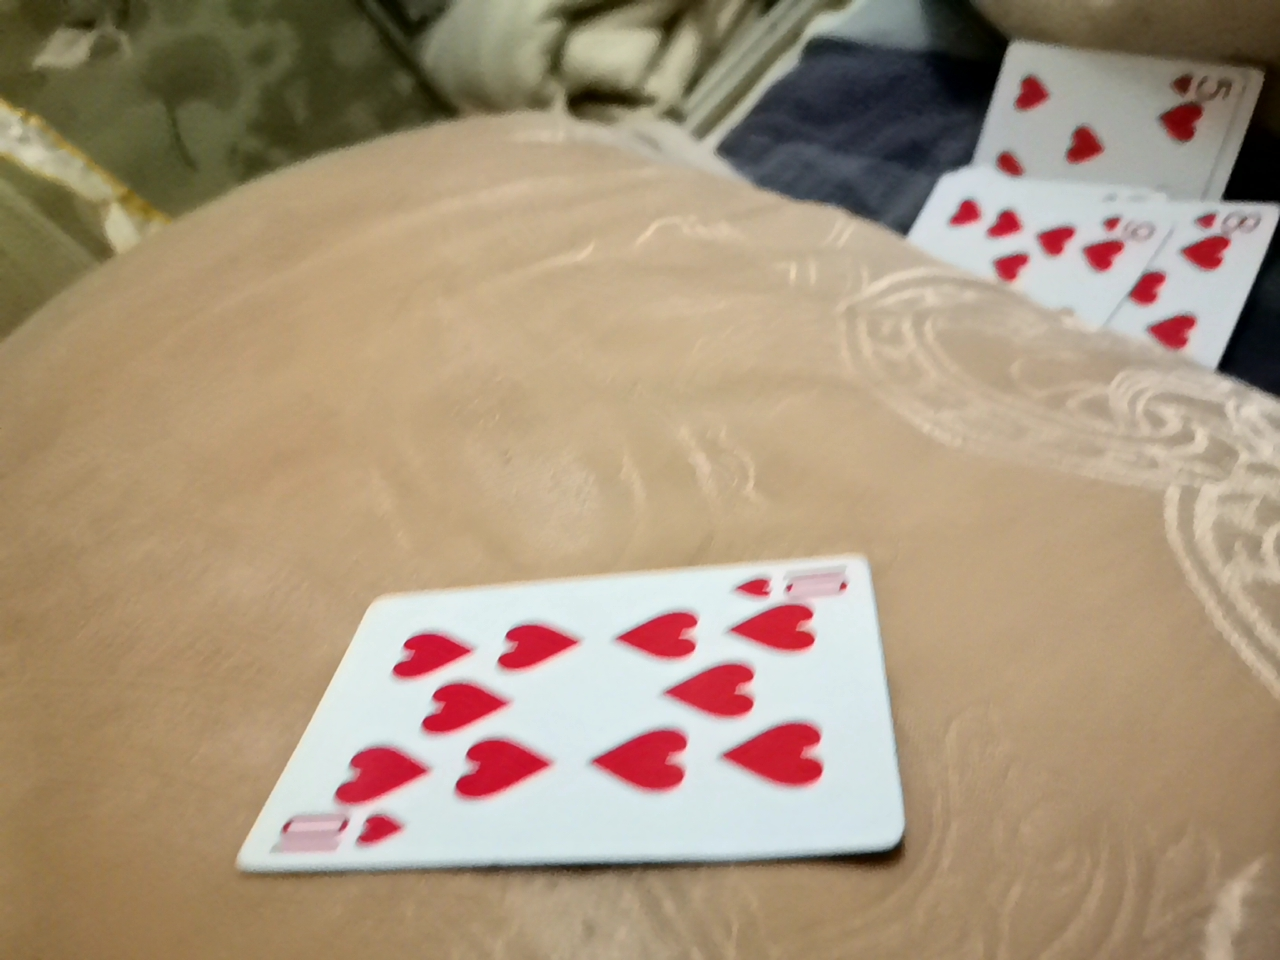hx 10: (221, 562, 898, 888)
